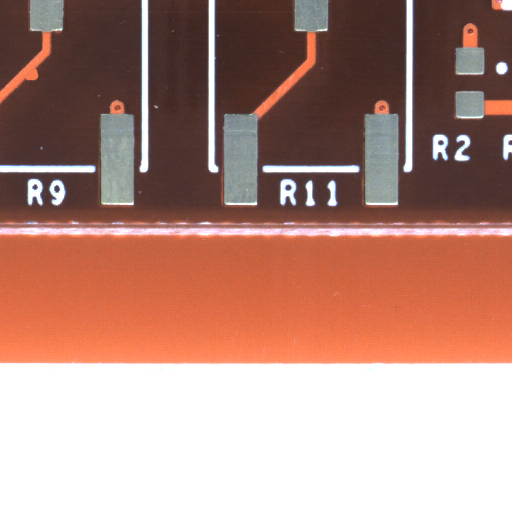Spur: (30, 74, 45, 86)
